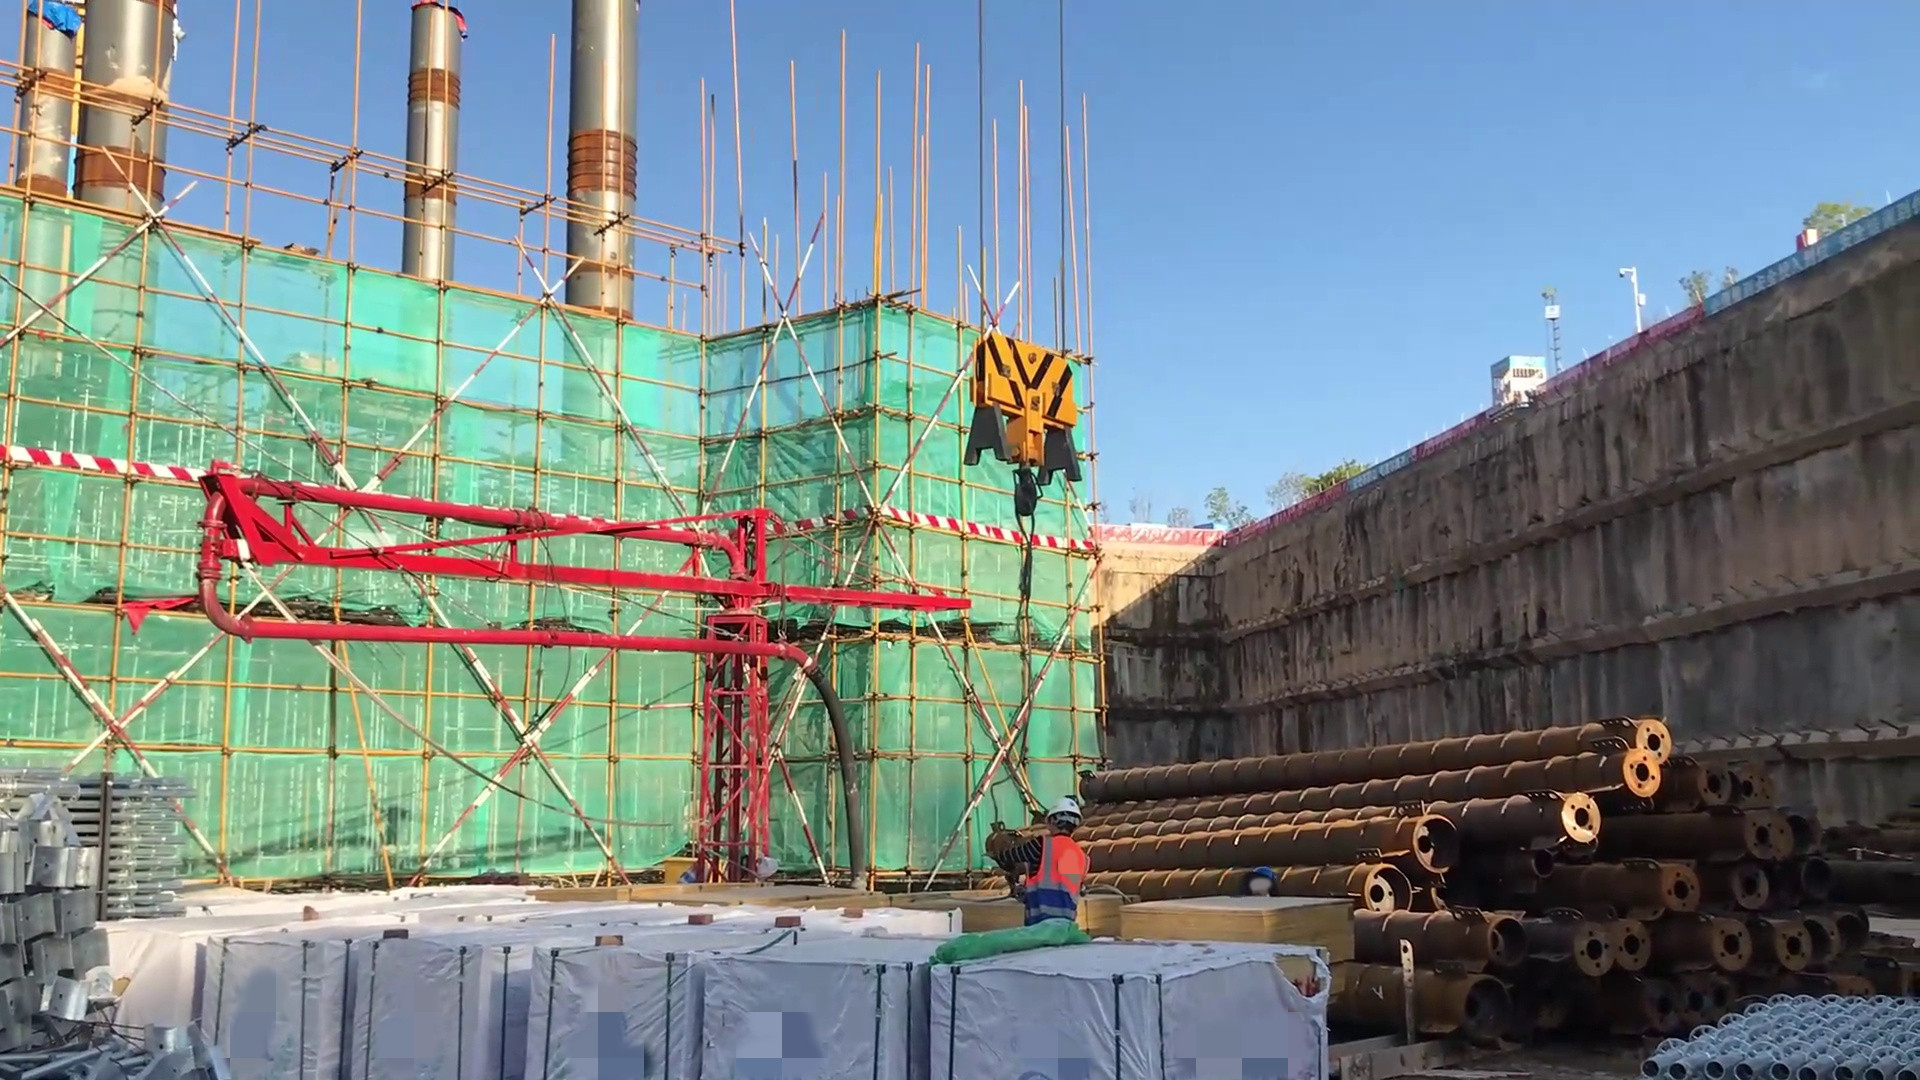board: (1118, 886, 1362, 977), (1075, 894, 1139, 935)
ebox: (650, 848, 727, 903)
helmet: (1041, 797, 1090, 840), (1233, 865, 1281, 909)
hook: (944, 319, 1097, 582)
person: (984, 787, 1101, 954)
scaffold: (55, 755, 223, 921), (1641, 982, 1917, 1080)
slogan: (1693, 180, 1920, 319), (1344, 445, 1427, 502)
vest: (1011, 831, 1097, 940)
